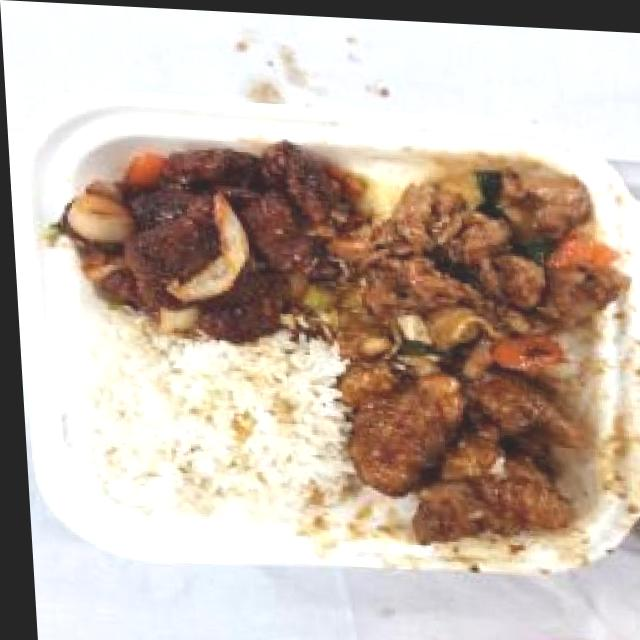Beijing Beef: (49, 122, 361, 334)
Kung Pao Chicken: (319, 141, 630, 383)
The Original Orange Chicken: (341, 355, 589, 543)
White Steamed Rice: (68, 322, 347, 528)
